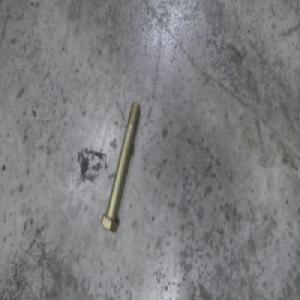Bolt: (100, 103, 140, 232)
